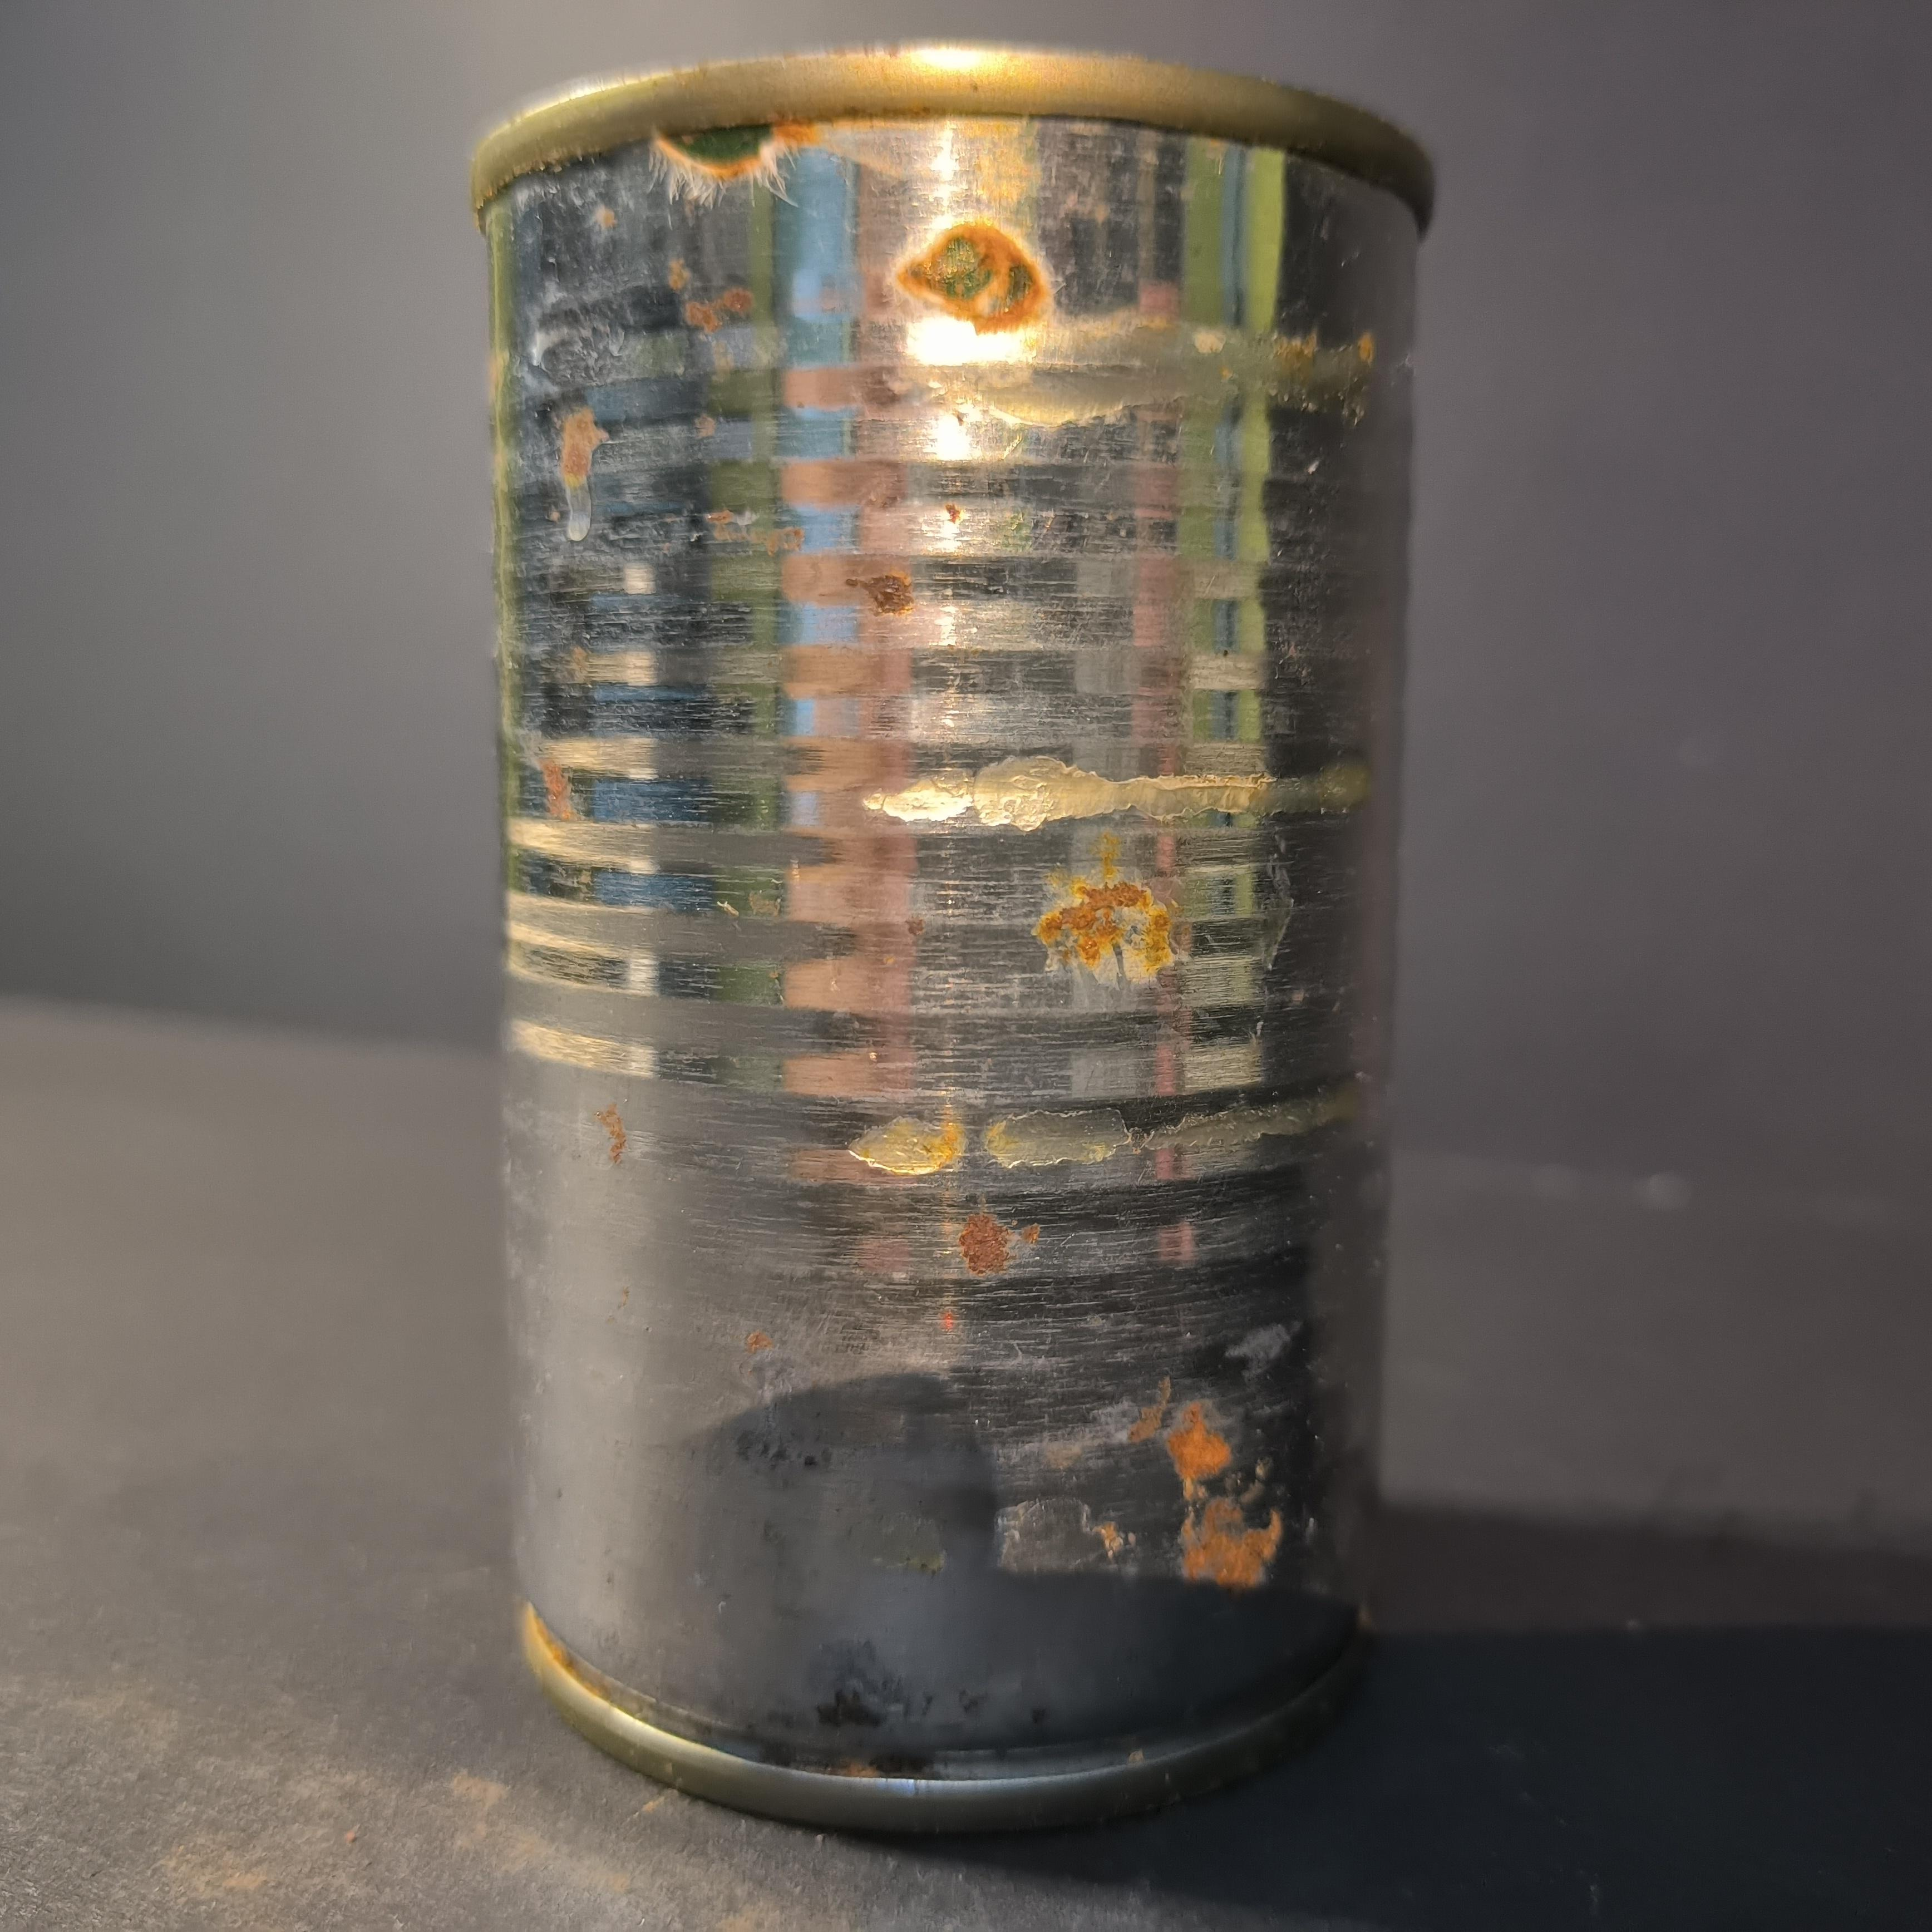Rusted: (467, 25, 1435, 1817)
